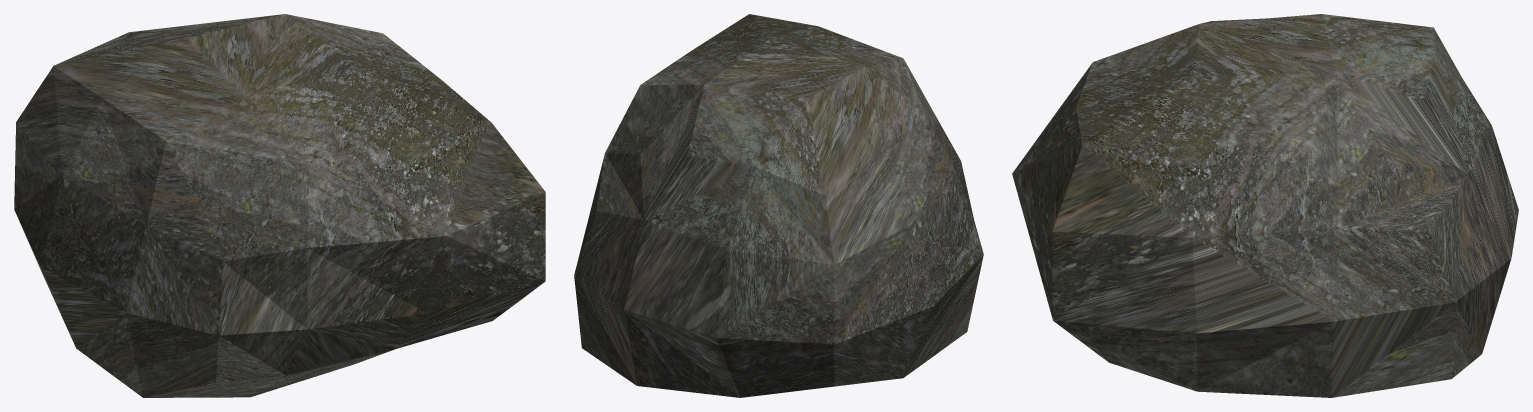
File: rock_02.obj
3 renders of one model, left to right at view 1: azimuth 30°, elevation 25°; view 2: azimuth 150°, elevation 25°; view 3: azimuth 270°, elevation 25°, orthographic. The views are drawn at different scales.
Visible parts, largest first — view 1: rock; view 2: rock; view 3: rock.
Part boxes in pixels (left/top/right/bottom): rock: left=14, top=14, right=545, bottom=397; rock: left=574, top=14, right=983, bottom=397; rock: left=1012, top=14, right=1518, bottom=397.
Bounding box in the file's own units: 0.9057 × 0.6672 × 1.
Materials: 1 (1 with a texture image).
